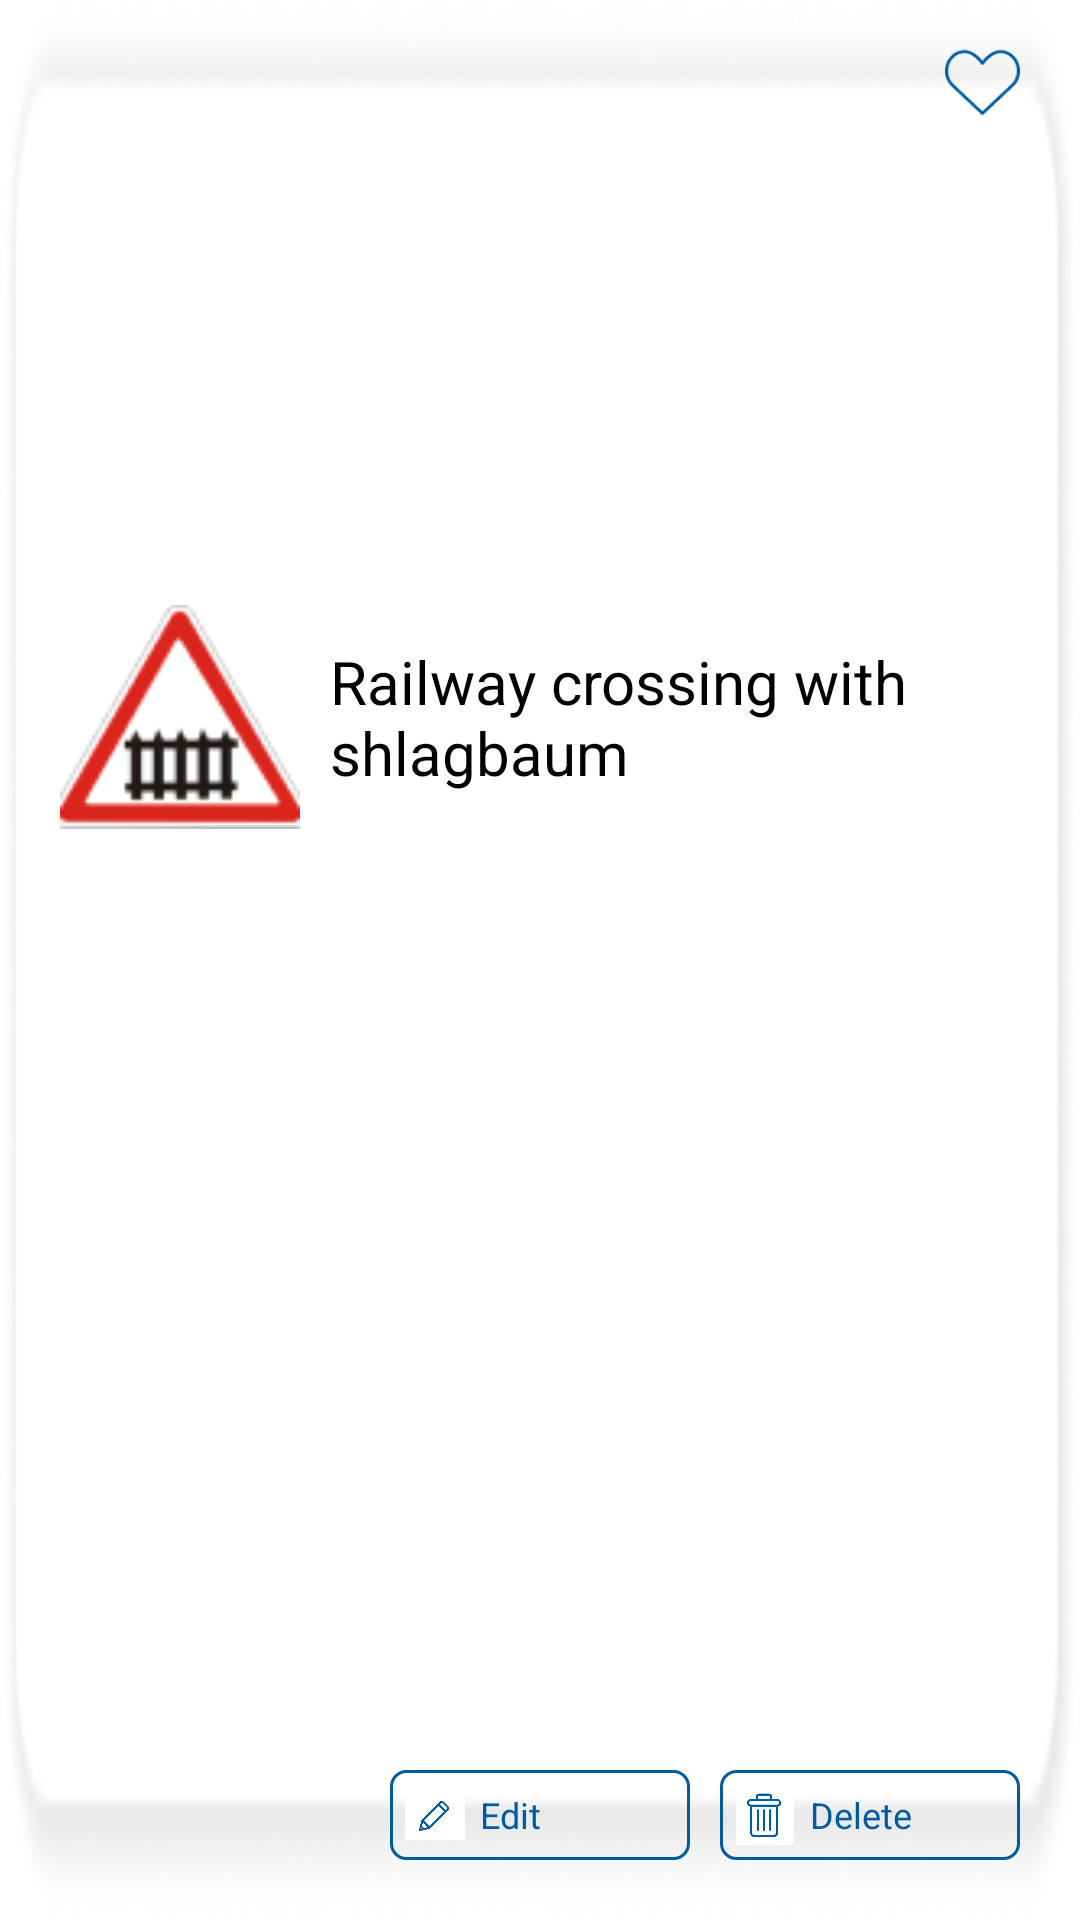

Icons on this 1080*1920 Android screen, each with the point to tap as (x=x, y=y):
pen: (x=434, y=1816)
trash: (x=764, y=1815)
unlike: (x=982, y=82)
